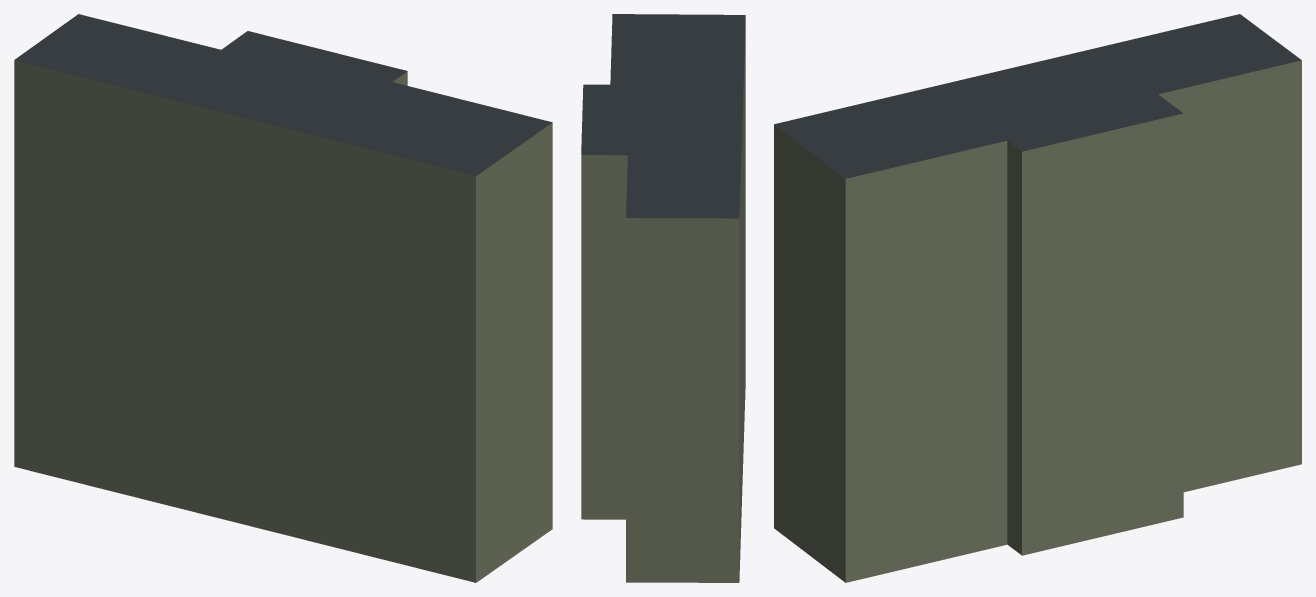
The model's file is nyc-1016056-0.glb.
The picture shows the model from 3 angles, left to right: view 1: azimuth 30°, elevation 25°; view 2: azimuth 150°, elevation 25°; view 3: azimuth 270°, elevation 25°; orthographic projection. The views are drawn at different scales.
Visible parts, largest first — view 1: nyc-1016056-0; view 2: nyc-1016056-0; view 3: nyc-1016056-0.
Boxes of the visible parts, box(x1,y1,x2,y2) form: nyc-1016056-0: box(14, 14, 552, 582); nyc-1016056-0: box(581, 14, 745, 582); nyc-1016056-0: box(774, 14, 1301, 582).
Bounding box in the file's own units: 20.7 × 23.65 × 28.
